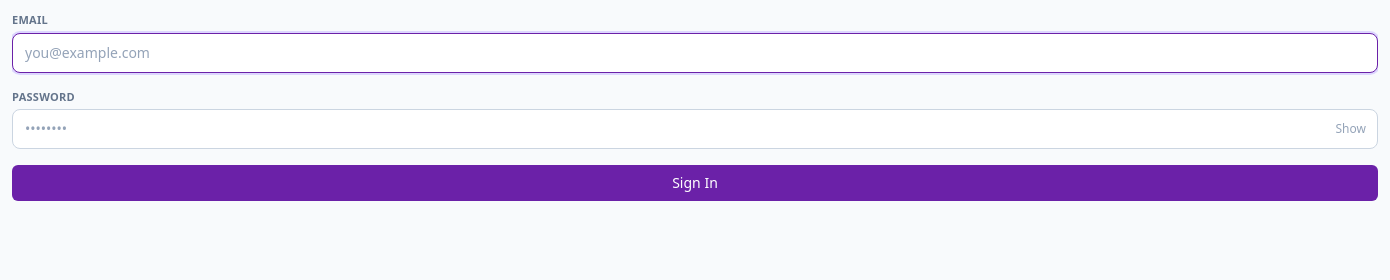
Test: LoginForm › shows validation error for empty password on submit
The image size is (1390, 280).
Type "test@example.com" into the field labelled "Email" at (695, 52), box [12,32,1378,72]
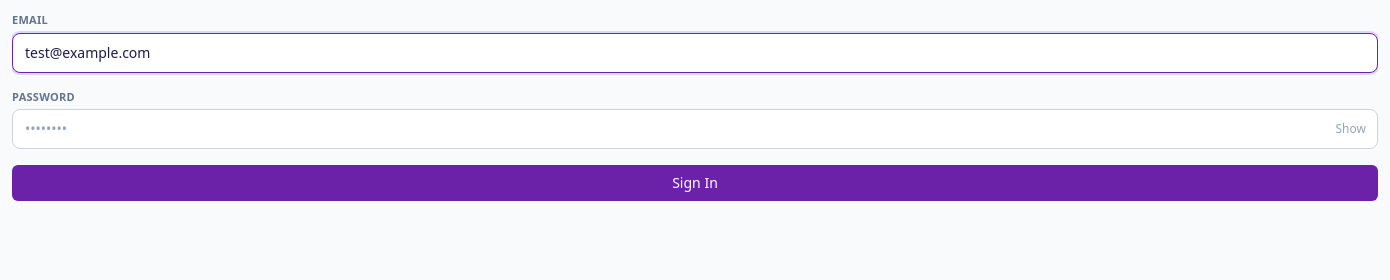
Click the button "Sign In" at (695, 183), box [12,165,1378,201]
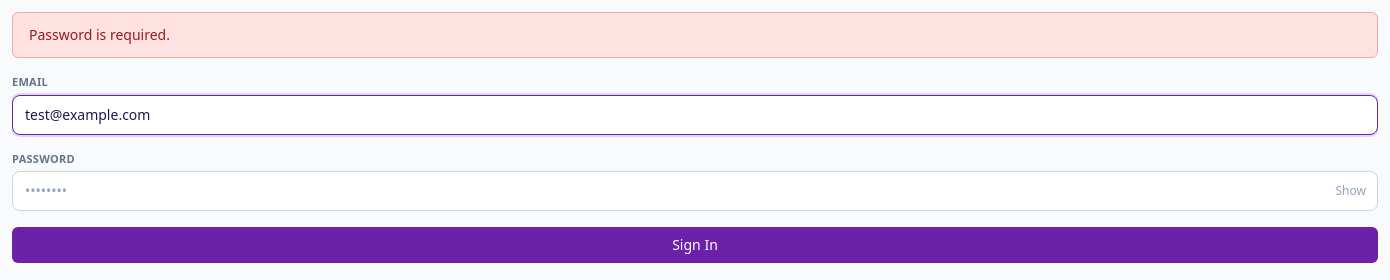
Now the text "Password is required." is shown, box [12,12,1378,58]
